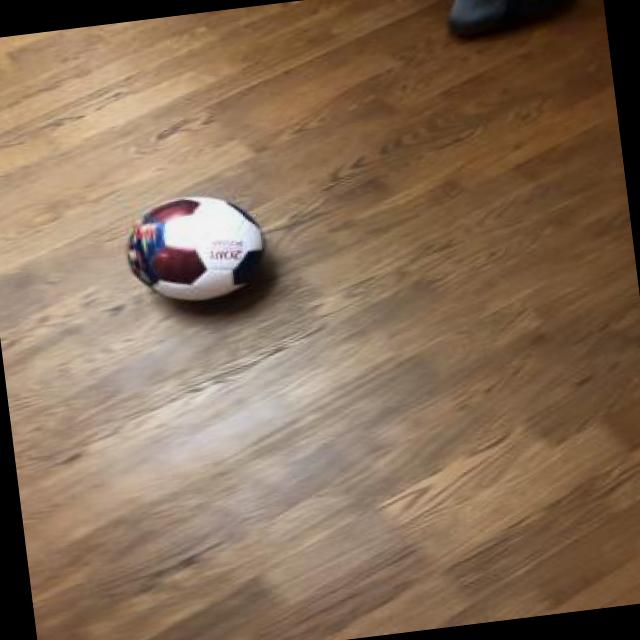Soccer Ball: (114, 182, 274, 312)
